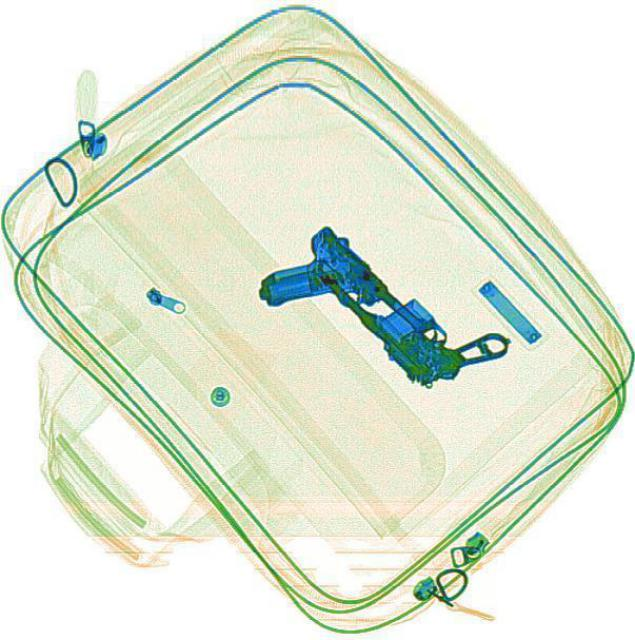Gun: (317, 221, 512, 407), (249, 221, 428, 391)
